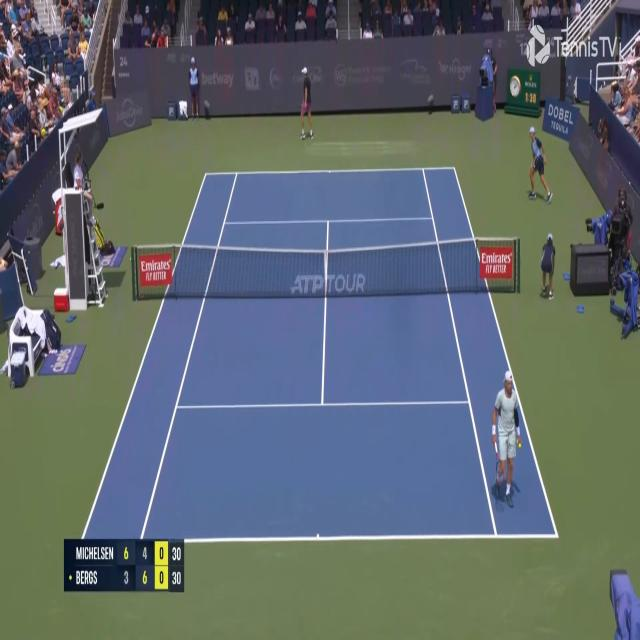tennis-player: (489, 368, 524, 511), (298, 66, 316, 142)
